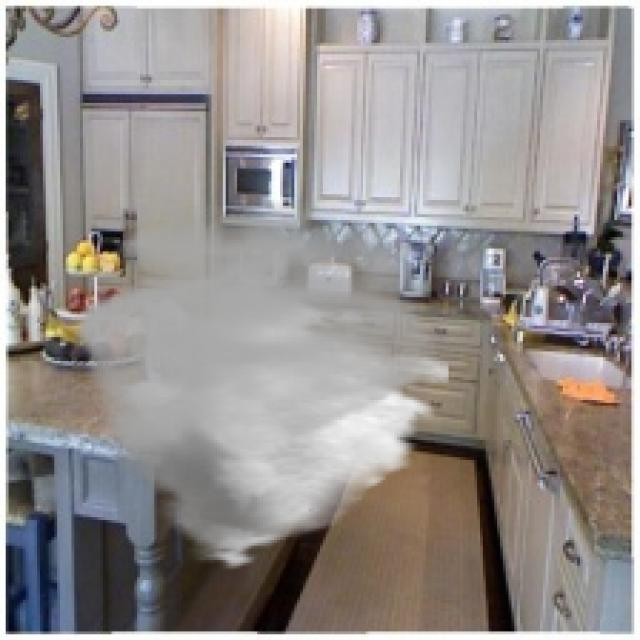smoke: (69, 200, 448, 571)
